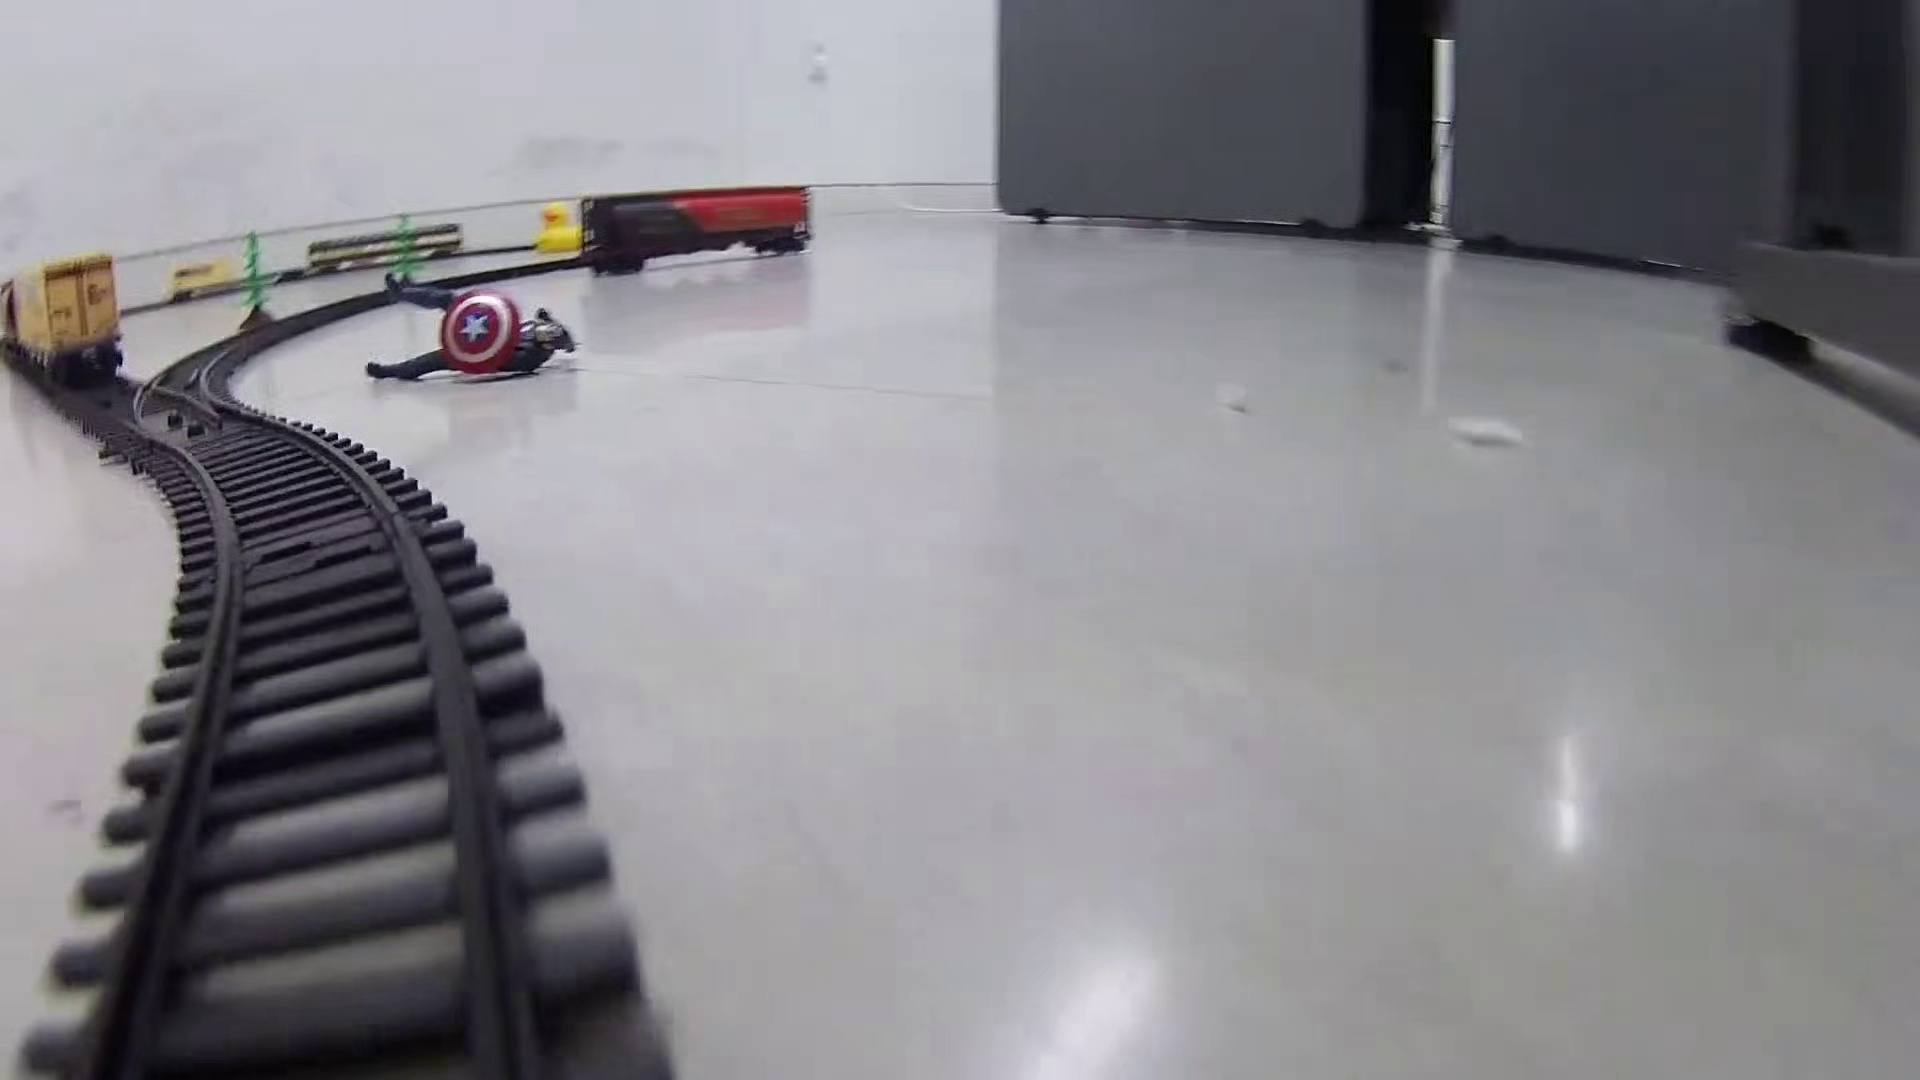people: (364, 267, 581, 393)
tree: (234, 227, 285, 336)
